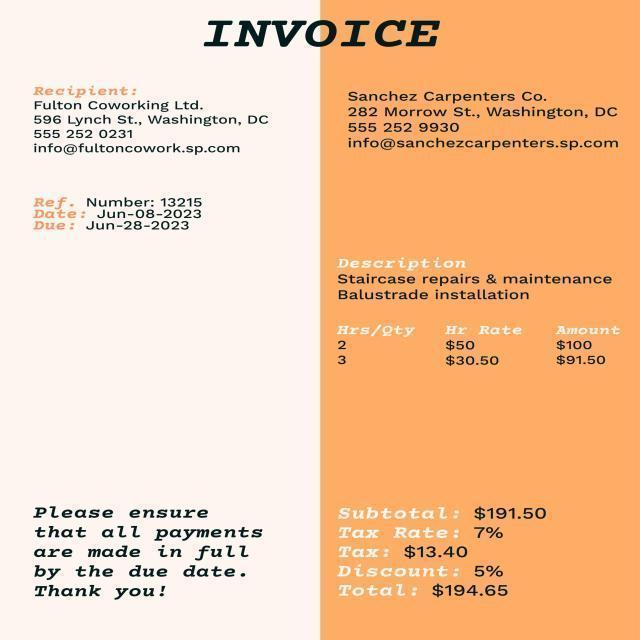paragraph: (26, 488, 271, 613), (331, 497, 558, 611), (338, 86, 634, 169), (24, 76, 278, 164), (28, 183, 222, 252), (189, 14, 445, 63)
table: (329, 252, 631, 379)
